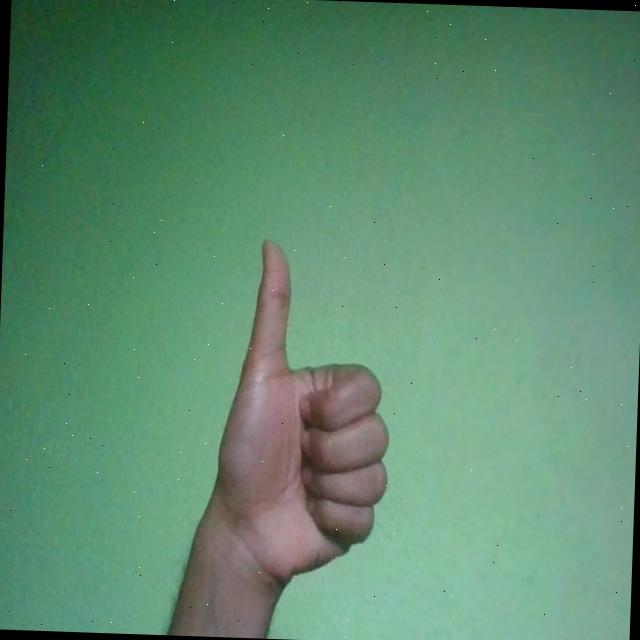Good Job: (211, 236, 396, 594)
